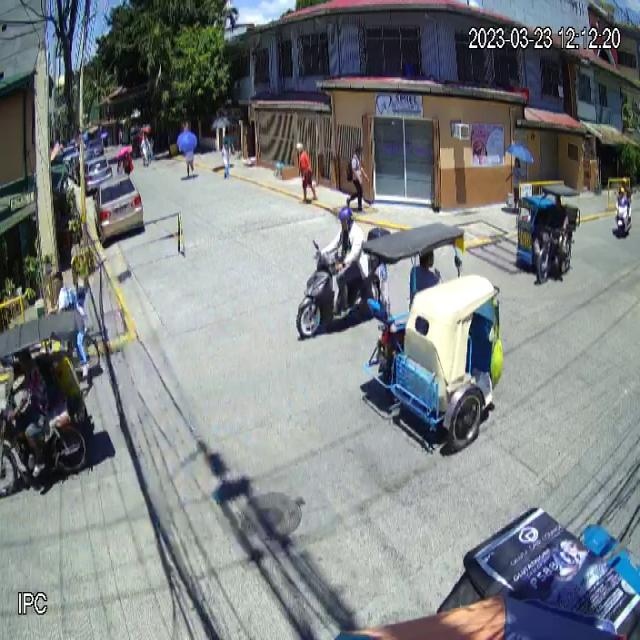Car: (92, 174, 144, 242)
Tricycle: (362, 224, 503, 448), (0, 308, 93, 496), (295, 238, 383, 338), (515, 185, 581, 283)
